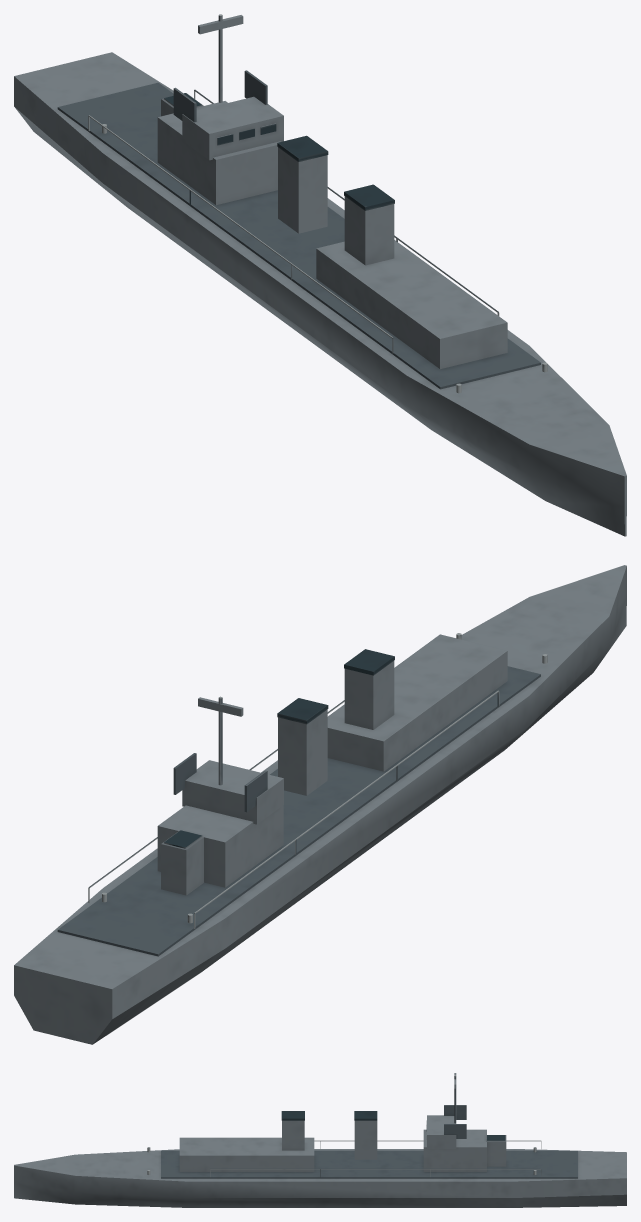
The model's file is naval-destroyer.fbx.
3 renders of one model, top to bottom at view 1: azimuth 30°, elevation 25°; view 2: azimuth 150°, elevation 25°; view 3: azimuth 270°, elevation 25°, orthographic. The views are drawn at different scales.
Parts seen in each view (by area): view 1: naval-destroyer; view 2: naval-destroyer; view 3: naval-destroyer.
Boxes of the visible parts, x1,y1,x2,y2 form: naval-destroyer: [14, 14, 626, 536]; naval-destroyer: [14, 565, 626, 1044]; naval-destroyer: [14, 1073, 626, 1207].
Bounding box in the file's own units: 34 × 59.5 × 270.
1 material, 1 textured.
